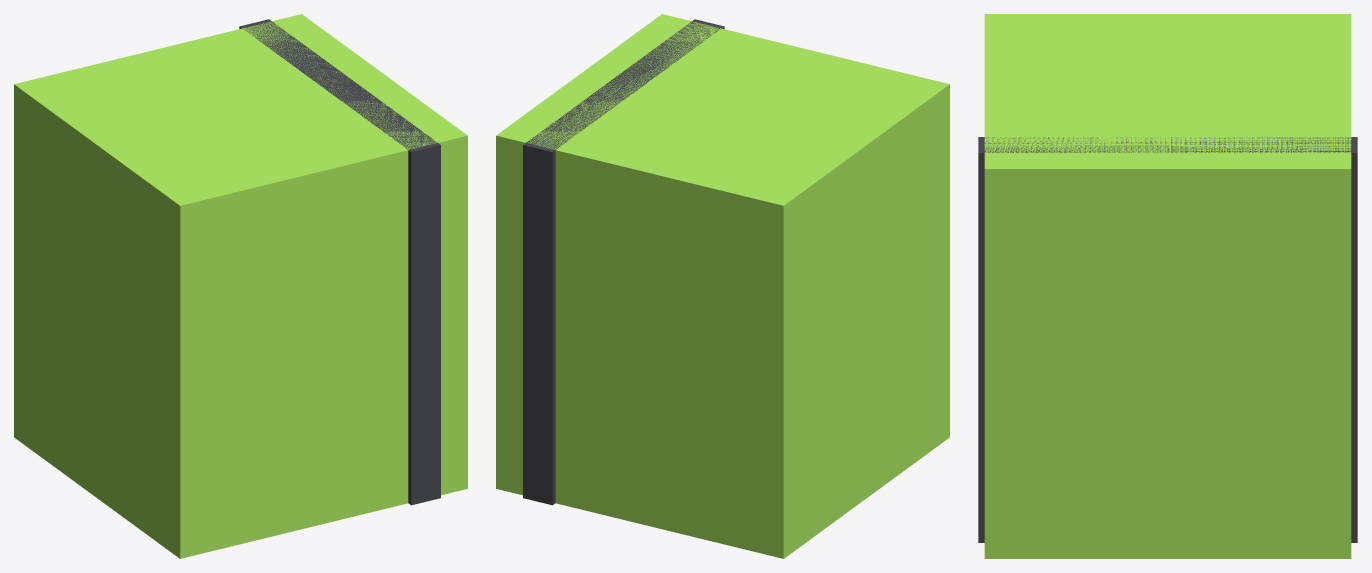
The model's file is goleiro_manga_sup.glb.
3 renders of one model, left to right at view 1: azimuth 30°, elevation 25°; view 2: azimuth 150°, elevation 25°; view 3: azimuth 270°, elevation 25°, orthographic. The views are drawn at different scales.
Visible parts, largest first — view 1: goleiro_manga_sup; view 2: goleiro_manga_sup; view 3: goleiro_manga_sup.
Part boxes in pixels (x1,y1,x2,y2): goleiro_manga_sup: (14, 14, 467, 558); goleiro_manga_sup: (496, 14, 949, 558); goleiro_manga_sup: (978, 14, 1357, 558).
Size of the model in its own units: 0.29 by 0.34 by 0.3.
